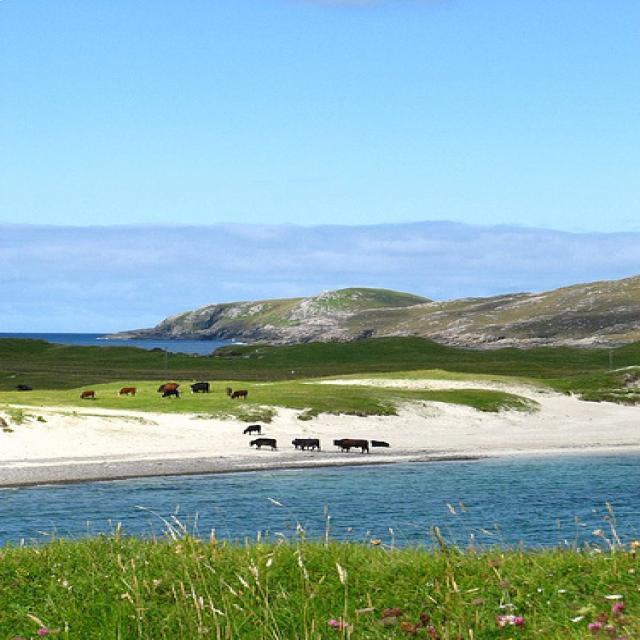cow: (331, 438, 369, 452), (289, 437, 318, 451), (247, 437, 275, 450), (241, 423, 260, 436), (188, 380, 207, 392), (154, 382, 178, 391), (116, 386, 135, 395), (229, 389, 246, 398), (159, 389, 176, 397), (77, 389, 92, 397), (367, 439, 386, 445), (14, 383, 29, 389), (224, 384, 231, 394)
